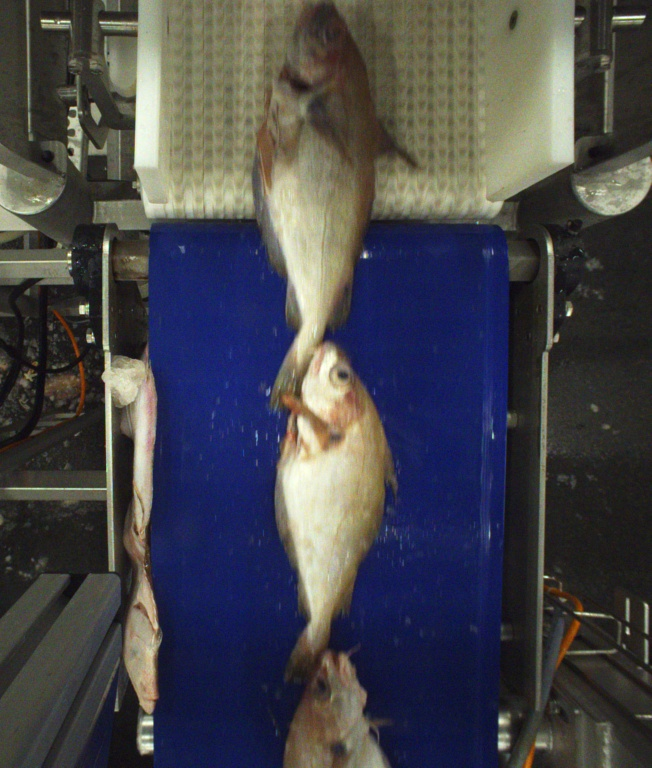BIB: (278, 646, 389, 768)
